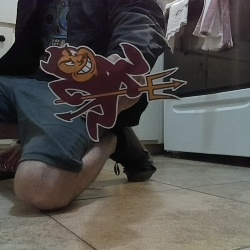sparky: (39, 42, 188, 143)
